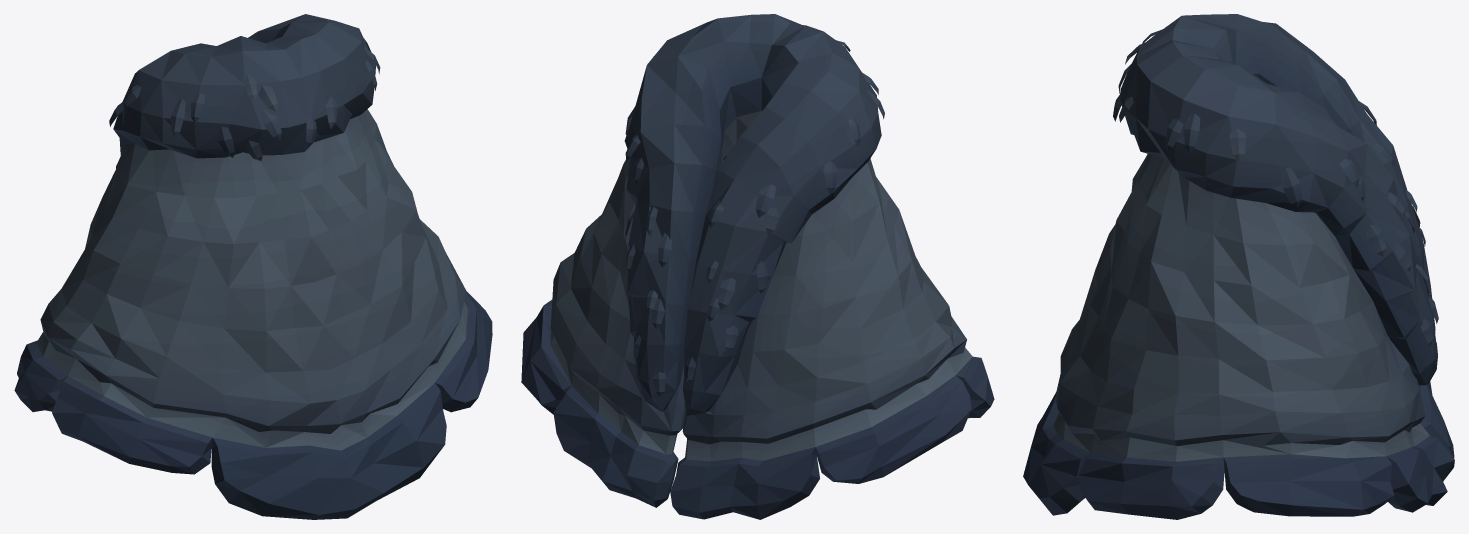
File: CharSkyKid_Wing_AP11HeavyFur_01.glb
3 renders of one model, left to right at view 1: azimuth 30°, elevation 25°; view 2: azimuth 150°, elevation 25°; view 3: azimuth 270°, elevation 25°, orthographic. The views are drawn at different scales.
Visible parts, largest first — view 1: CharSkyKid_Wing_AP11HeavyFur_01; view 2: CharSkyKid_Wing_AP11HeavyFur_01; view 3: CharSkyKid_Wing_AP11HeavyFur_01.
Boxes of the visible parts, left/top/right/bottom form: CharSkyKid_Wing_AP11HeavyFur_01: left=14, top=14, right=492, bottom=519; CharSkyKid_Wing_AP11HeavyFur_01: left=521, top=14, right=994, bottom=519; CharSkyKid_Wing_AP11HeavyFur_01: left=1023, top=14, right=1454, bottom=519.
Bounding box in the file's own units: 8.09 × 7.62 × 6.51.
Materials: 1 (1 with a texture image).
